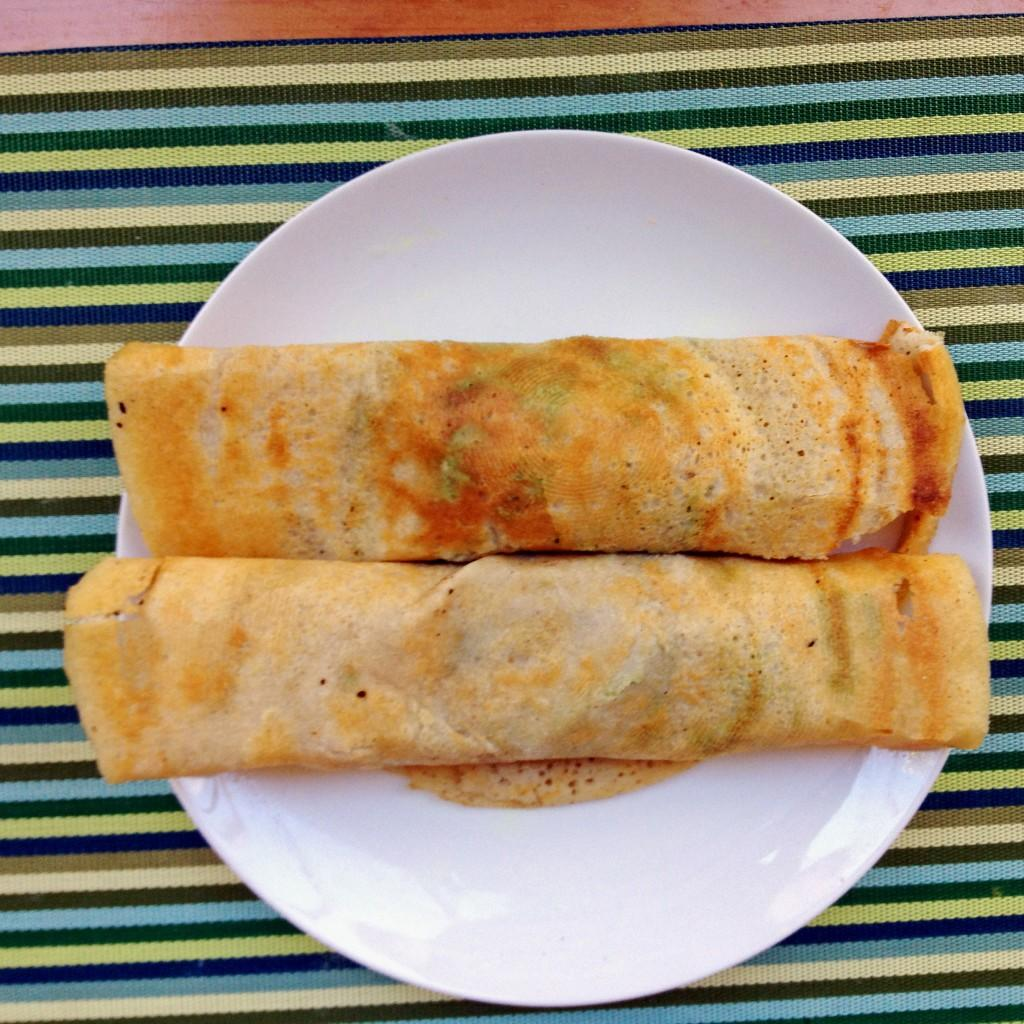Dosa: (65, 560, 991, 812), (106, 323, 965, 562)
